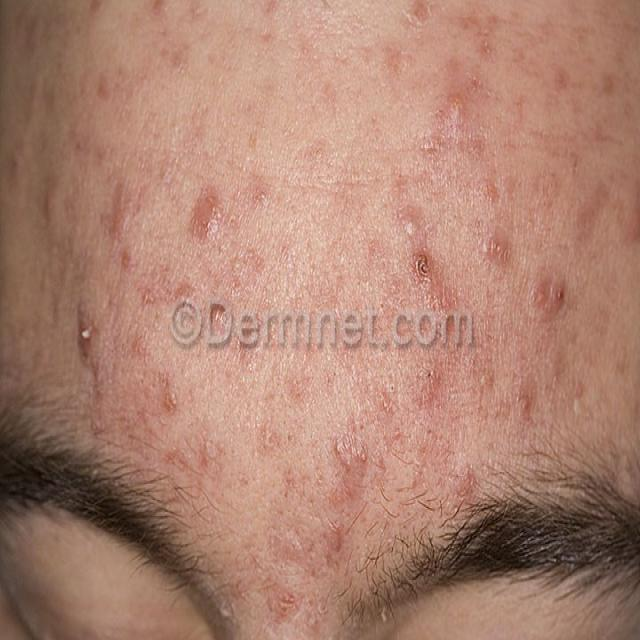Rosacea: (53, 70, 566, 612)
